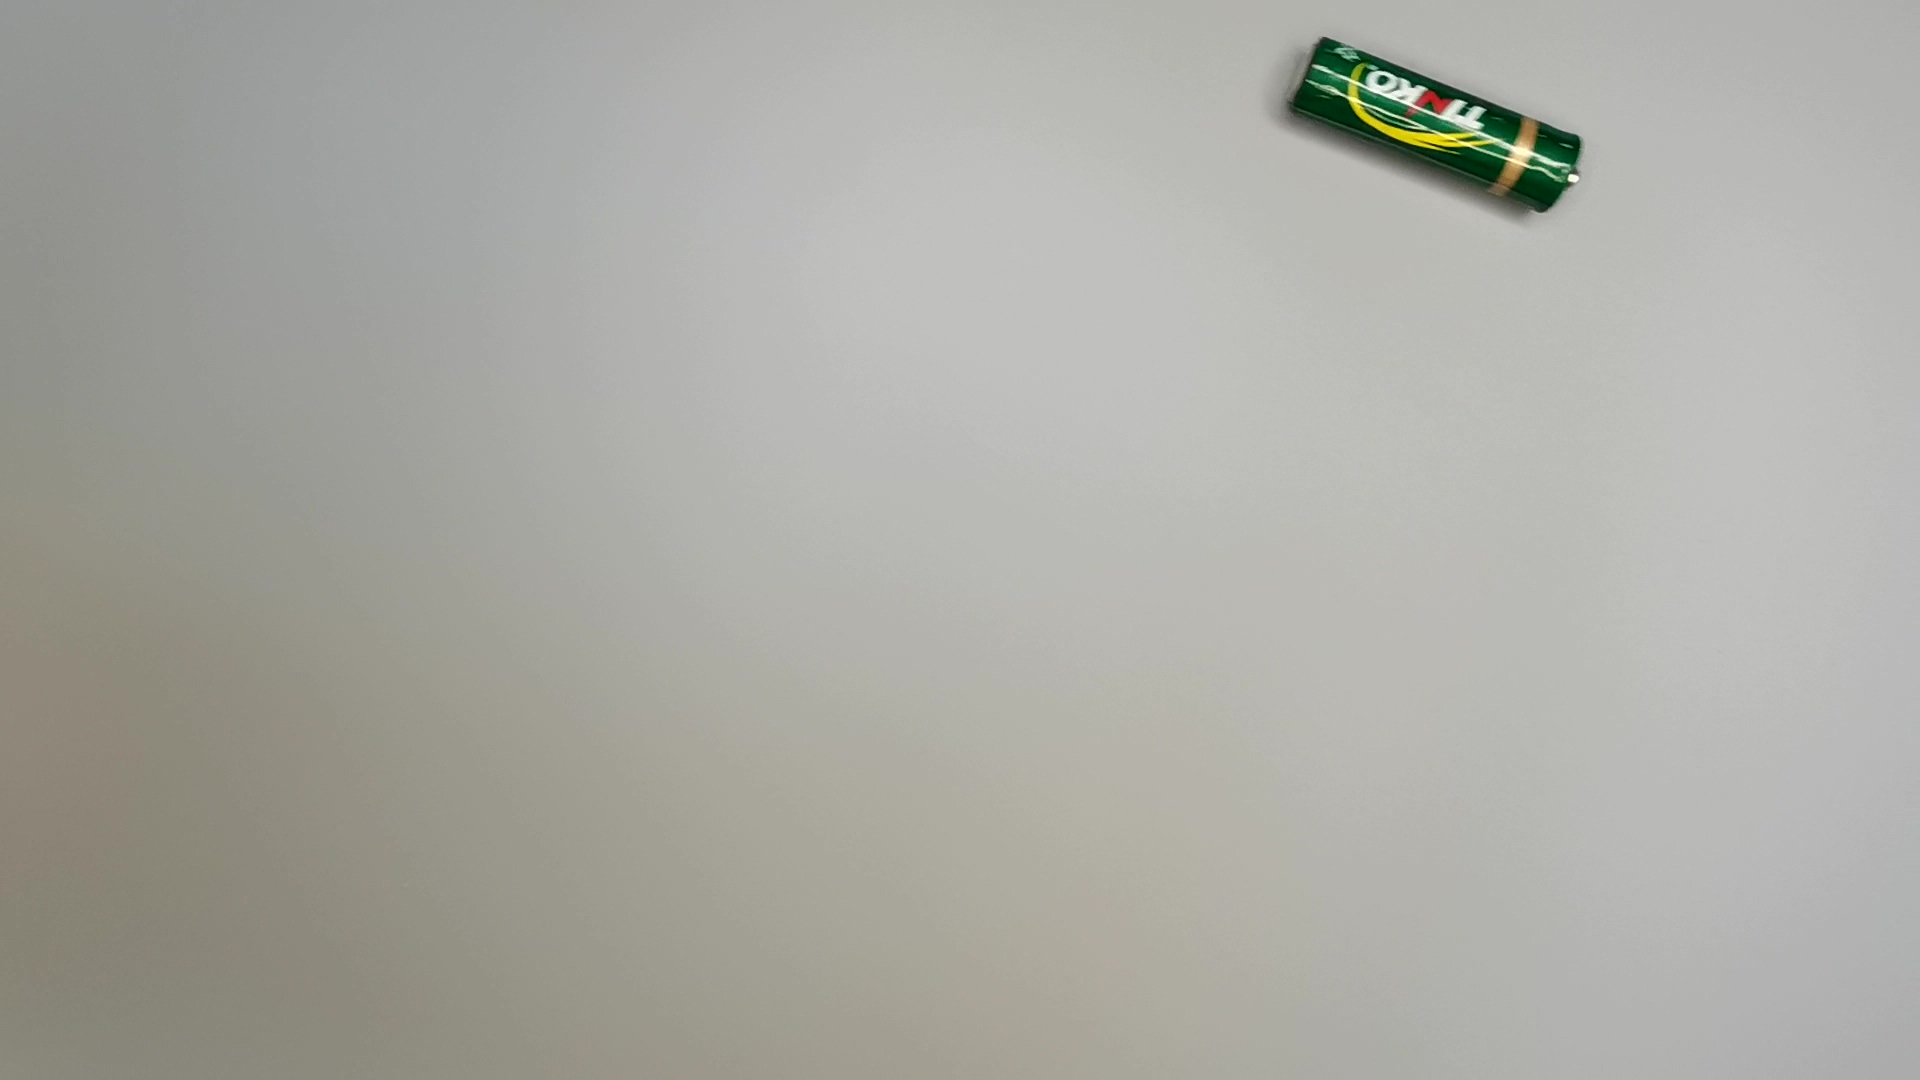battery: (1278, 32, 1586, 215)
